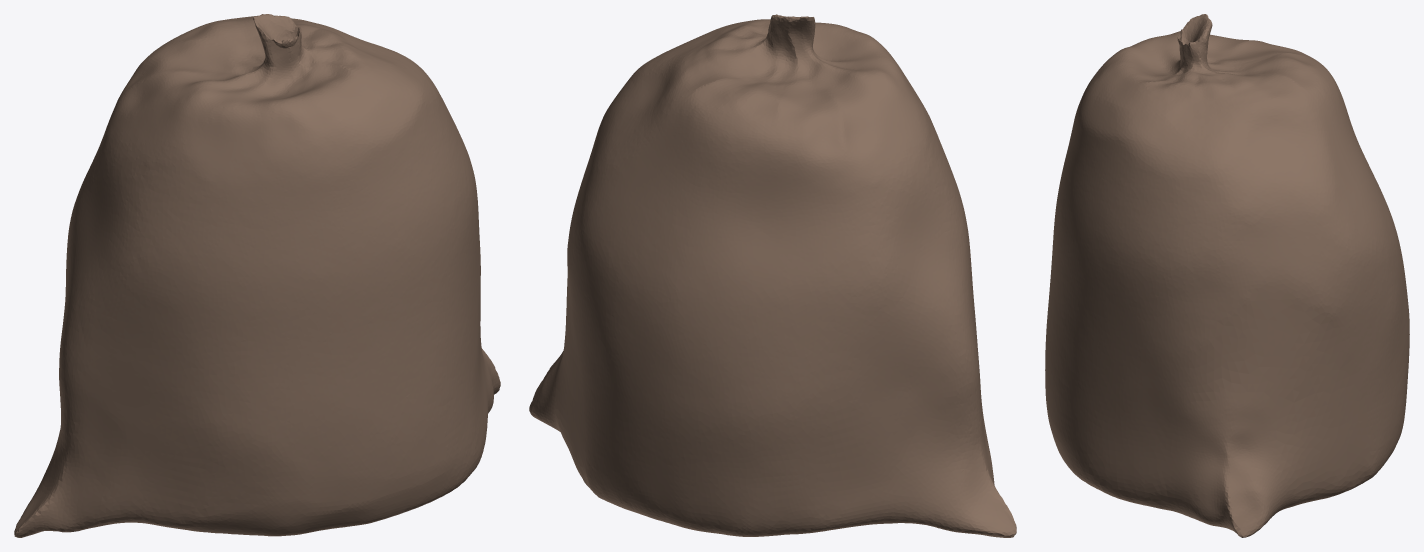
File: uploads_files_4849588_sack.fbx
The picture shows the model from 3 angles, left to right: view 1: azimuth 30°, elevation 25°; view 2: azimuth 150°, elevation 25°; view 3: azimuth 270°, elevation 25°; orthographic projection. The views are drawn at different scales.
Parts seen in each view (by area): view 1: Cylinder.043; view 2: Cylinder.043; view 3: Cylinder.043.
Part boxes in pixels (x1,y1,x2,y2): Cylinder.043: [14, 14, 500, 537]; Cylinder.043: [529, 14, 1016, 537]; Cylinder.043: [1045, 14, 1409, 537].
Bounding box in the file's own units: 1122 × 1037 × 801.
